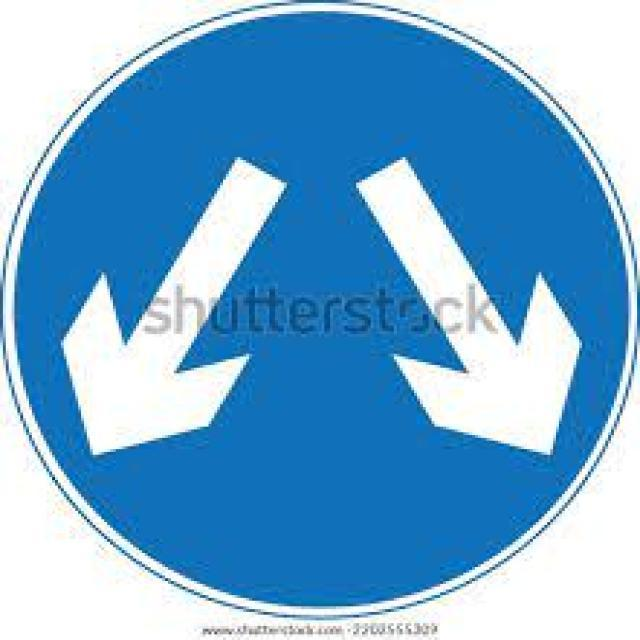pass either side: (26, 25, 601, 595)
